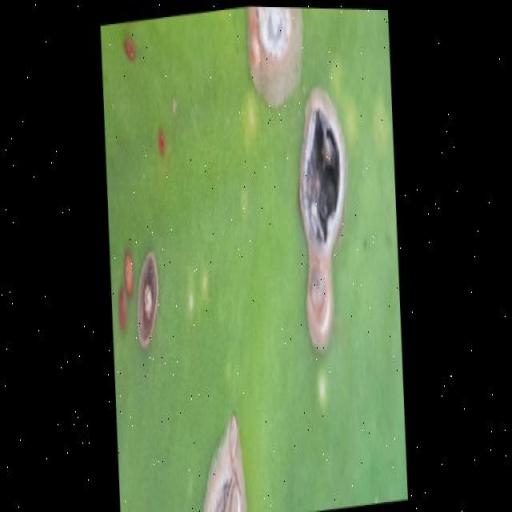stemcanker: (168, 127, 196, 159), (398, 438, 418, 478), (373, 434, 393, 470), (320, 387, 340, 420)
